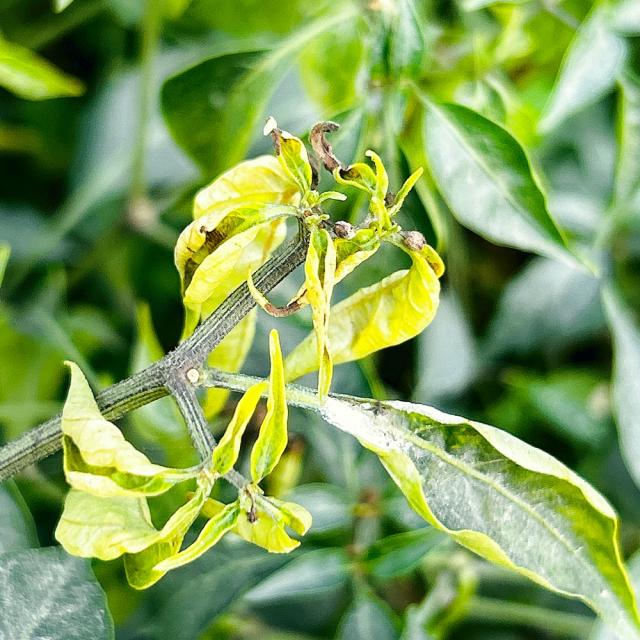Chilli_Leaf_Curl: (4, 3, 637, 636), (52, 117, 446, 590), (318, 390, 638, 637), (172, 116, 446, 404), (54, 330, 313, 590), (408, 82, 600, 279), (302, 222, 337, 404), (248, 328, 289, 483)
